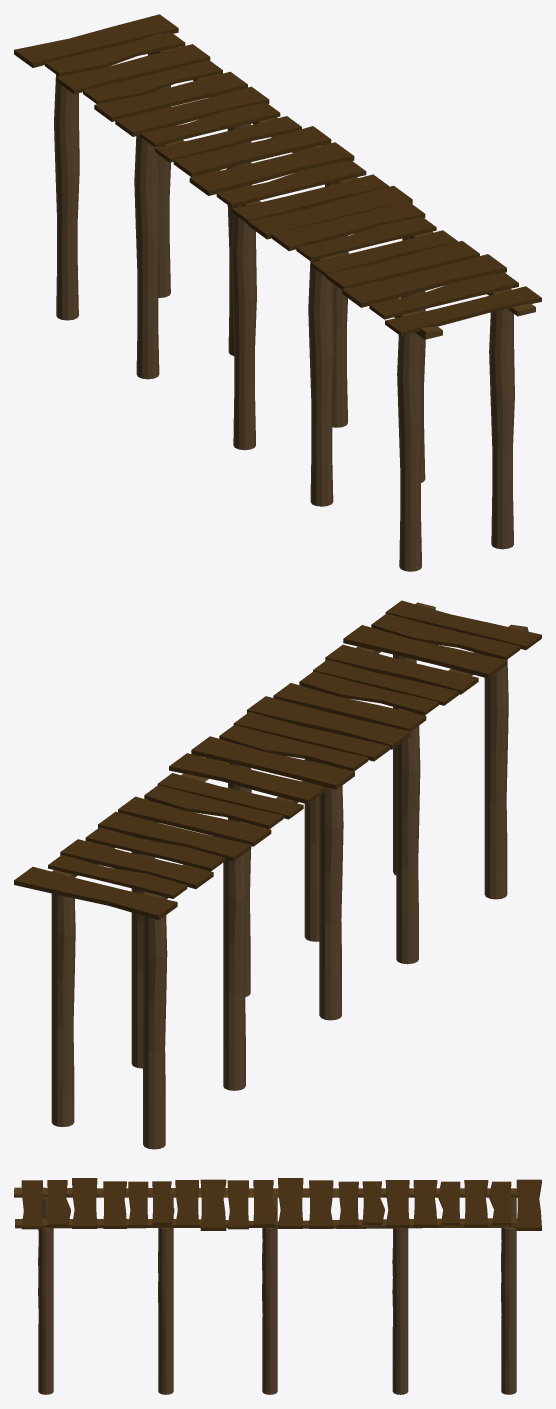
File: Pier.fbx
The picture shows the model from 3 angles, top to bottom: view 1: azimuth 30°, elevation 25°; view 2: azimuth 150°, elevation 25°; view 3: azimuth 270°, elevation 25°; orthographic projection. The views are drawn at different scales.
Parts seen in each view (by area): view 1: Plane; view 2: Plane; view 3: Plane.
Part boxes in pixels (left/top/right/bottom): Plane: left=14, top=14, right=541, bottom=571; Plane: left=14, top=600, right=541, bottom=1149; Plane: left=14, top=1178, right=541, bottom=1394.
Bounding box in the file's own units: 3.29 × 5.5 × 15.2.
